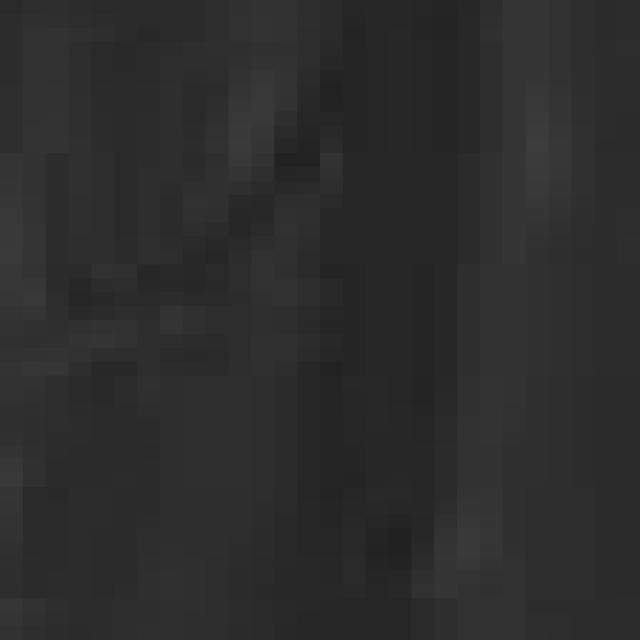fracture: (5, 0, 640, 640)
